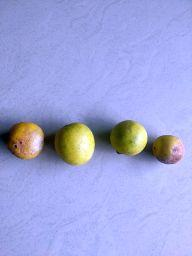lemon: (52, 122, 96, 167), (6, 120, 46, 161), (109, 120, 149, 157), (151, 134, 185, 165)
